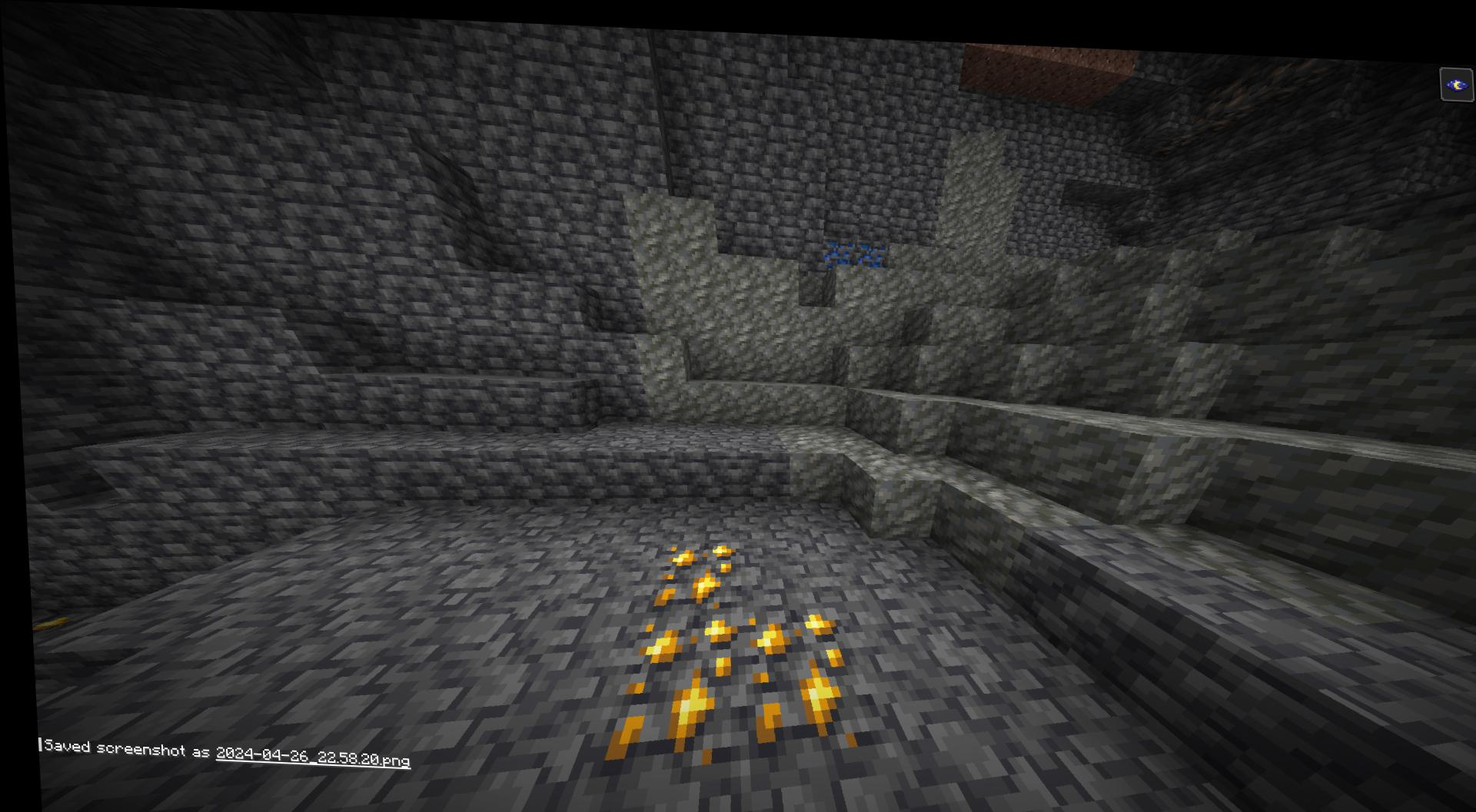gold ore: (595, 613, 735, 760), (738, 607, 858, 753), (647, 538, 733, 605)
iron ore: (1205, 44, 1326, 111)
